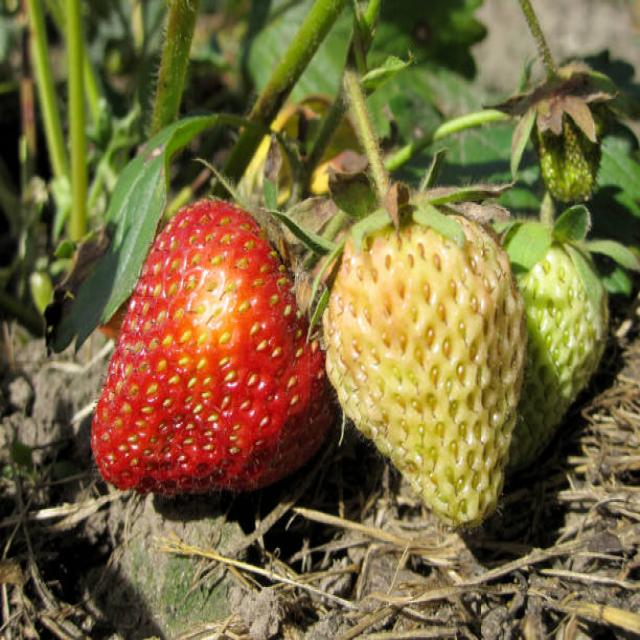Healthy Fruit: (92, 197, 330, 496), (318, 212, 525, 530)
